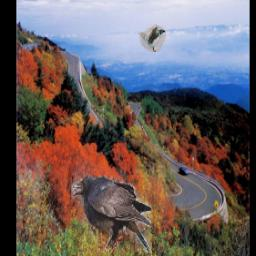Crow: (71, 176, 151, 254)
Swallow: (138, 24, 166, 52)
